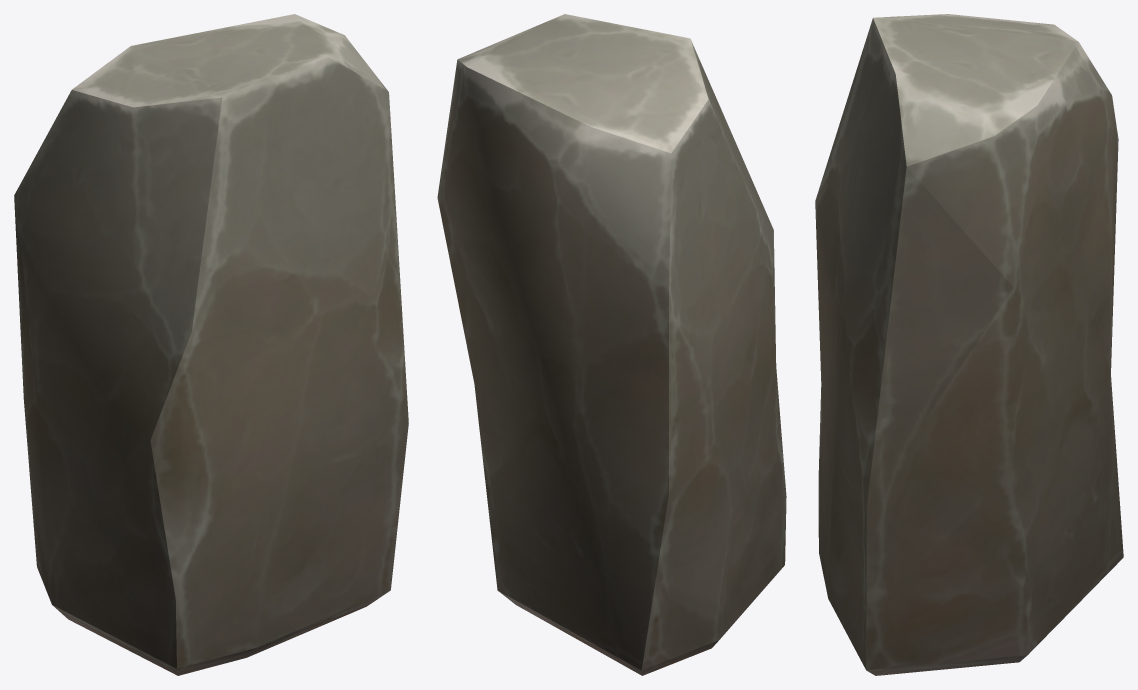
The model's file is Rock1.glb.
The picture shows the model from 3 angles, left to right: view 1: azimuth 30°, elevation 25°; view 2: azimuth 150°, elevation 25°; view 3: azimuth 270°, elevation 25°; orthographic projection. The views are drawn at different scales.
Parts seen in each view (by area): view 1: SM_Rocks_09; view 2: SM_Rocks_09; view 3: SM_Rocks_09.
Part boxes in pixels (box(x1,y1,x2,y2)): SM_Rocks_09: box(14, 14, 408, 675); SM_Rocks_09: box(437, 14, 786, 675); SM_Rocks_09: box(815, 14, 1123, 675).
Size of the model in its own units: 0.879 by 1.59 by 0.7441.
1 material, 1 textured.
